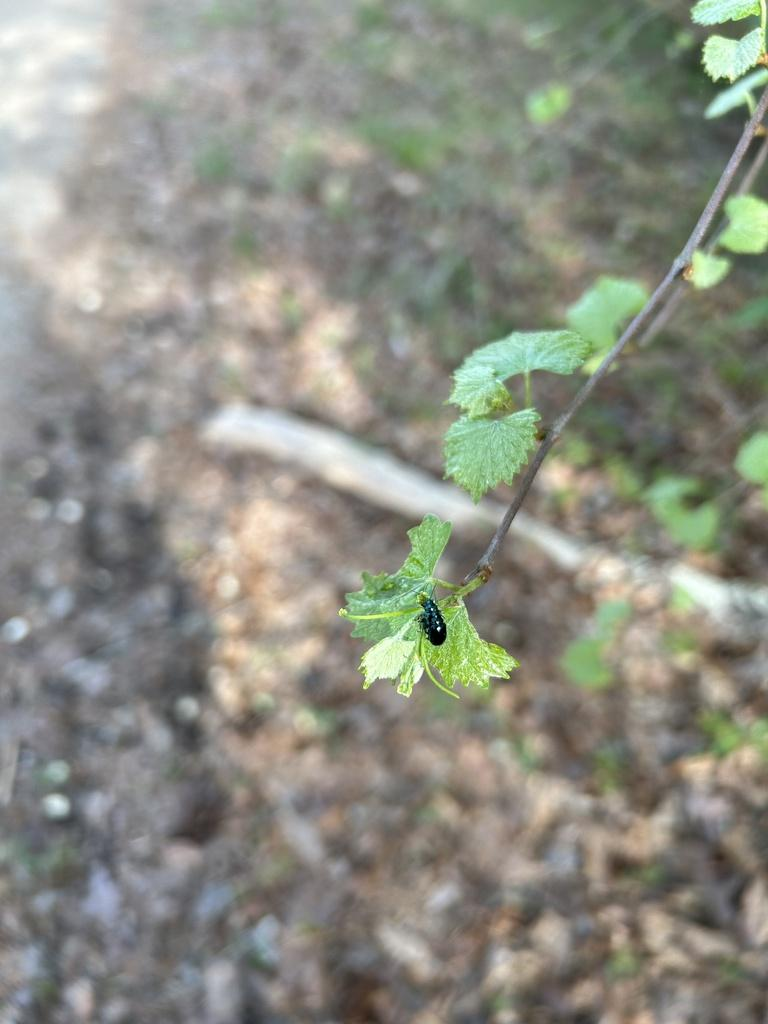flea_beetle: (405, 575, 459, 651)
